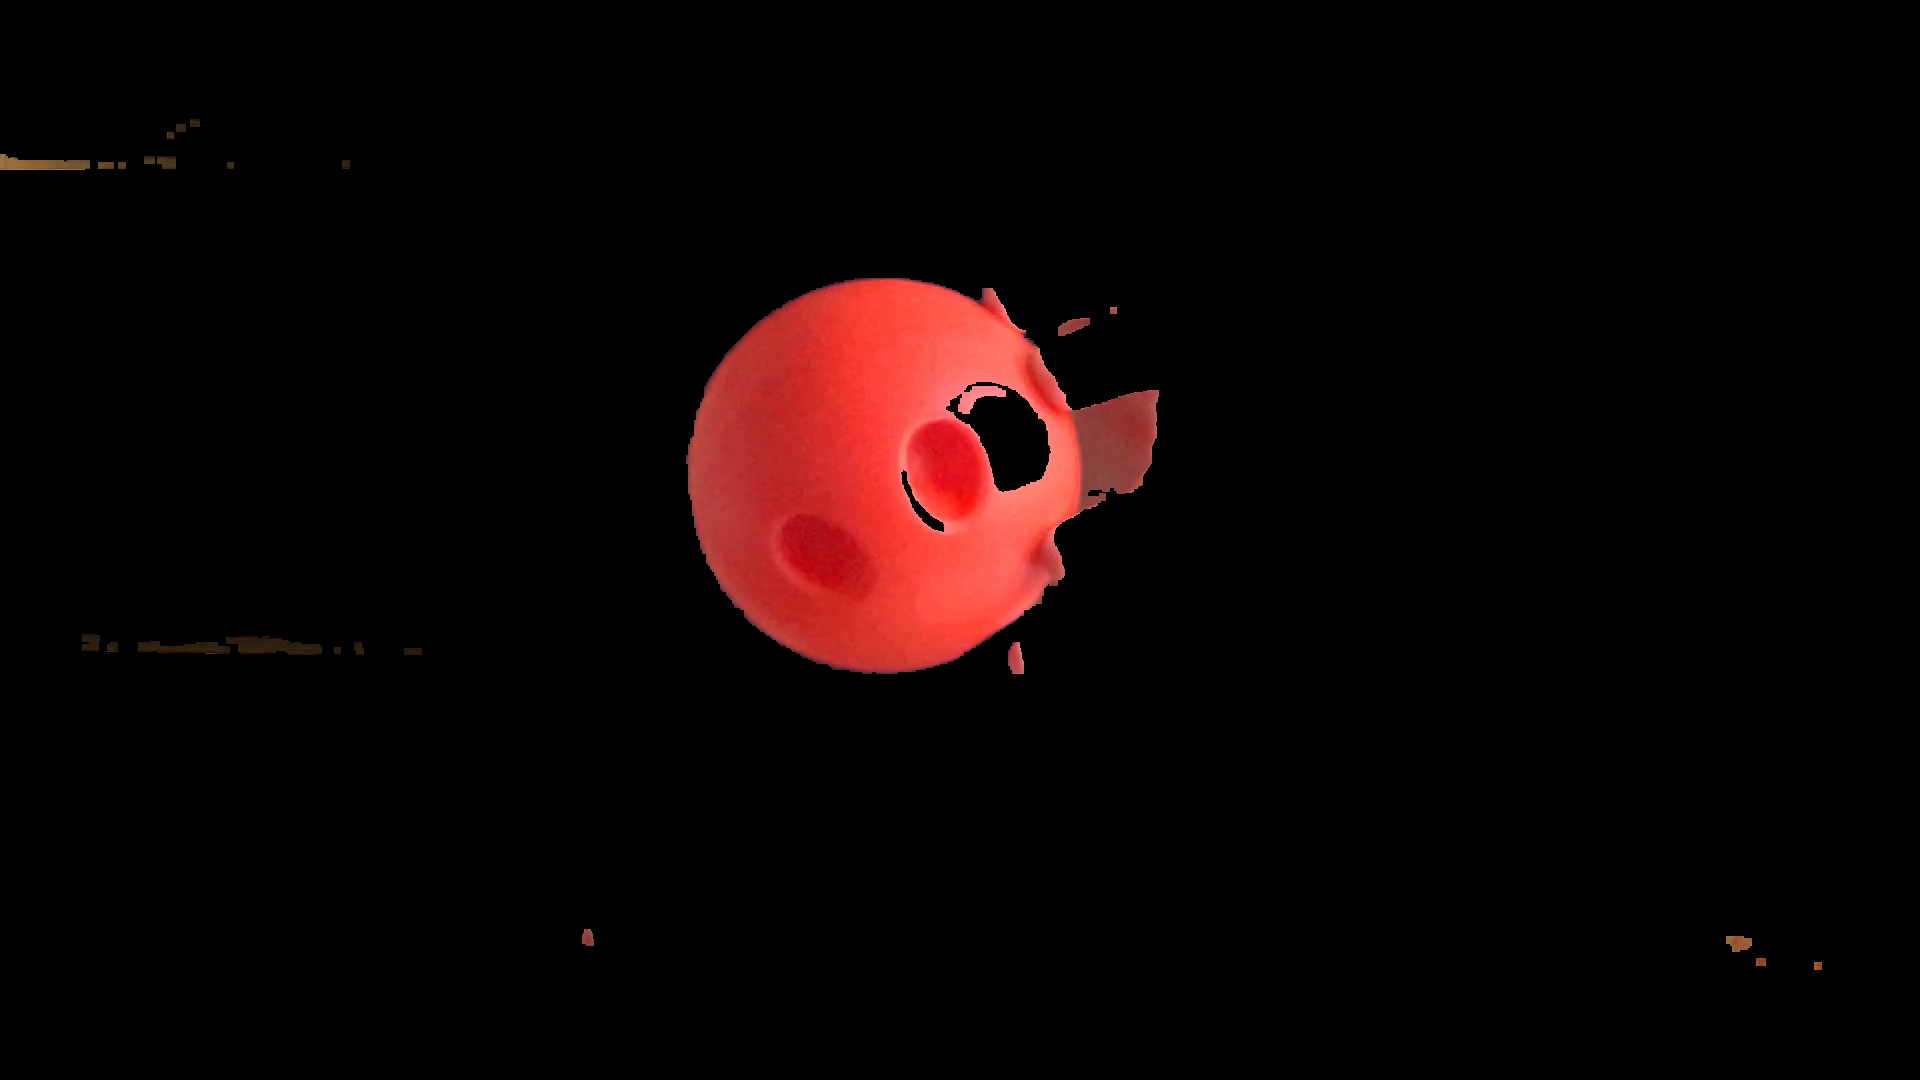Ball: (694, 277, 1083, 676)
